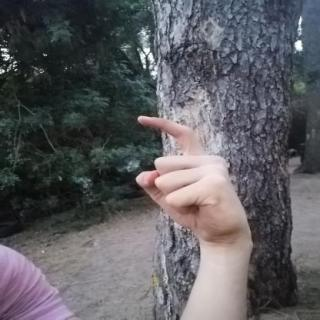RAA: (124, 108, 258, 247)
